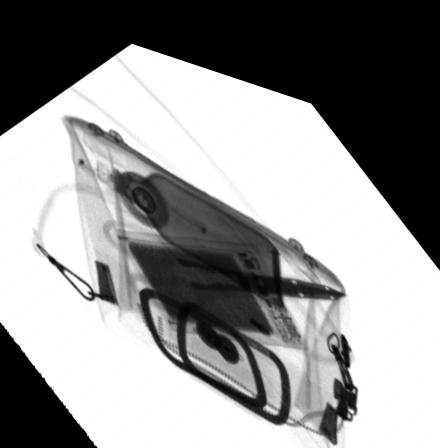Powerbank: (115, 223, 311, 334)
Scissors: (101, 211, 347, 310)
